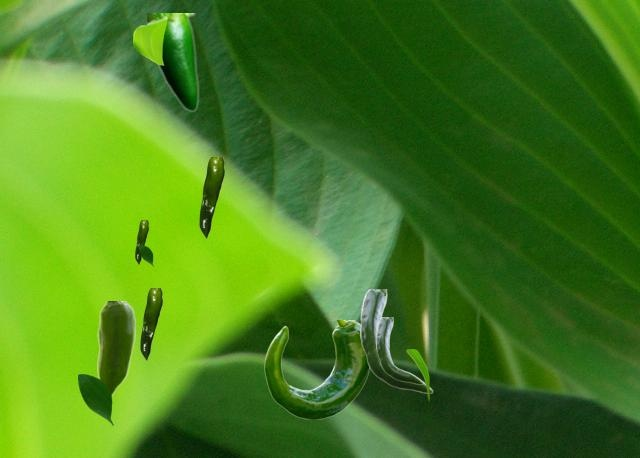green_chili: (264, 320, 369, 418), (360, 289, 432, 392), (147, 13, 198, 111), (96, 301, 134, 395), (376, 317, 422, 383), (199, 157, 223, 237), (140, 288, 161, 359), (135, 220, 147, 263)
